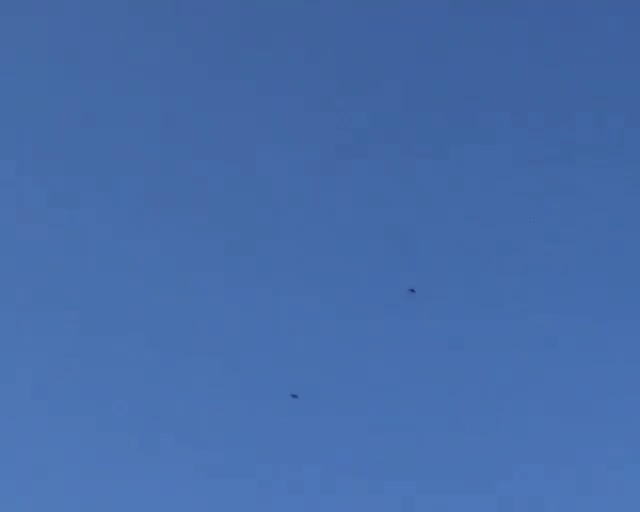BIRD: (290, 393, 299, 398)
